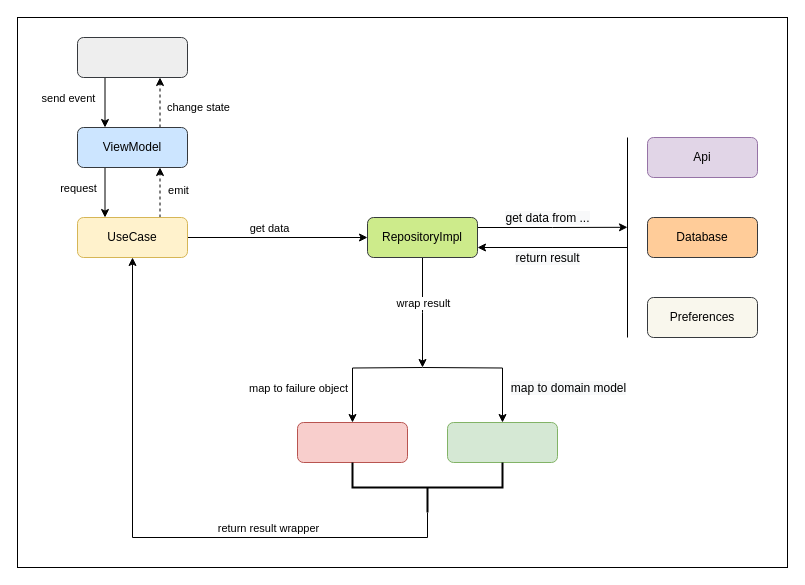
Image size: 805x585. Some labels were removed from this diagram. Here are the shapes that lost their labels. From the top down, the centre of each, then its label:
the point at 132,57: Activity Fragment
the point at 352,442: Failure
the point at 502,442: Success
